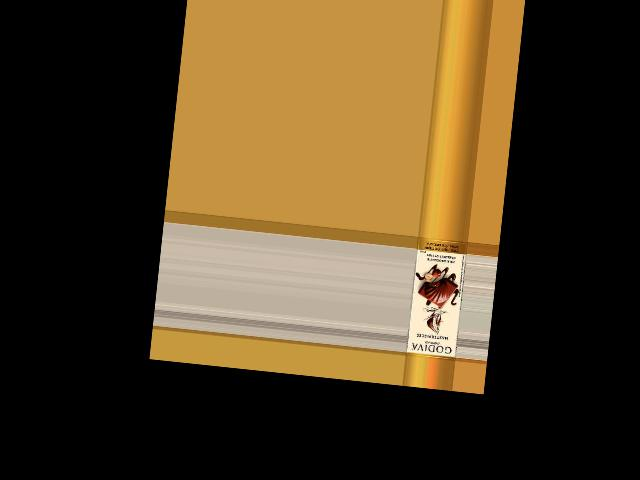chocolate: (405, 237, 467, 360)
